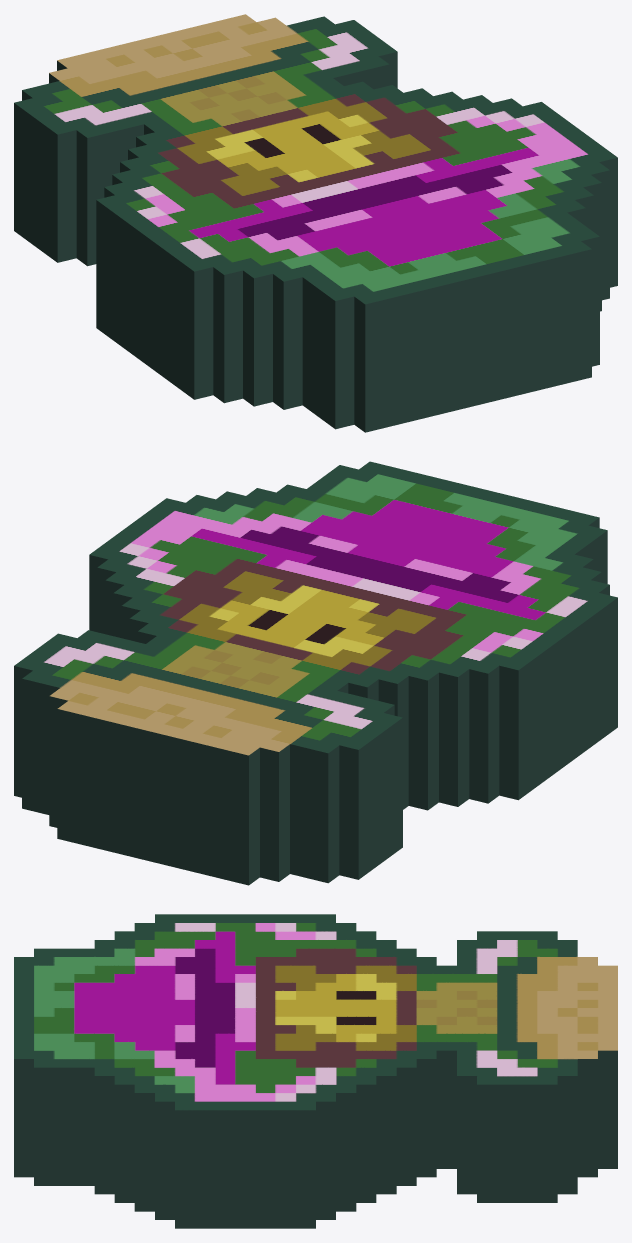
The model's file is poison1.glb.
3 views of the same model, one above another, from view 1: azimuth 30°, elevation 25°; view 2: azimuth 150°, elevation 25°; view 3: azimuth 270°, elevation 25° (orthographic). The views are drawn at different scales.
Parts seen in each view (by area): view 1: poison1-5-col; view 2: poison1-5-col; view 3: poison1-5-col.
Boxes of the visible parts, x1,y1,x2,y2 form: poison1-5-col: [14, 14, 617, 432]; poison1-5-col: [14, 461, 617, 885]; poison1-5-col: [14, 914, 617, 1228].
Bounding box in the file's own units: 0.7188 × 0.2027 × 0.9375.
Materials: 2 (1 with a texture image).
